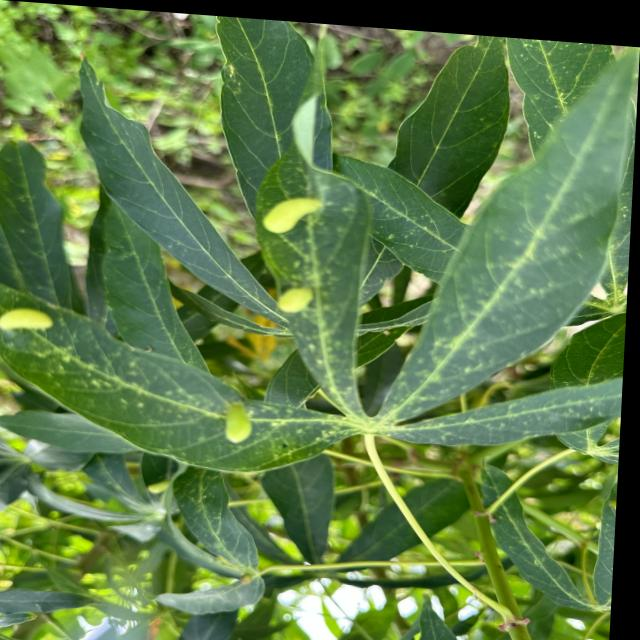Mosca: (250, 185, 338, 238), (213, 397, 275, 453), (262, 266, 325, 321), (0, 295, 54, 356)
